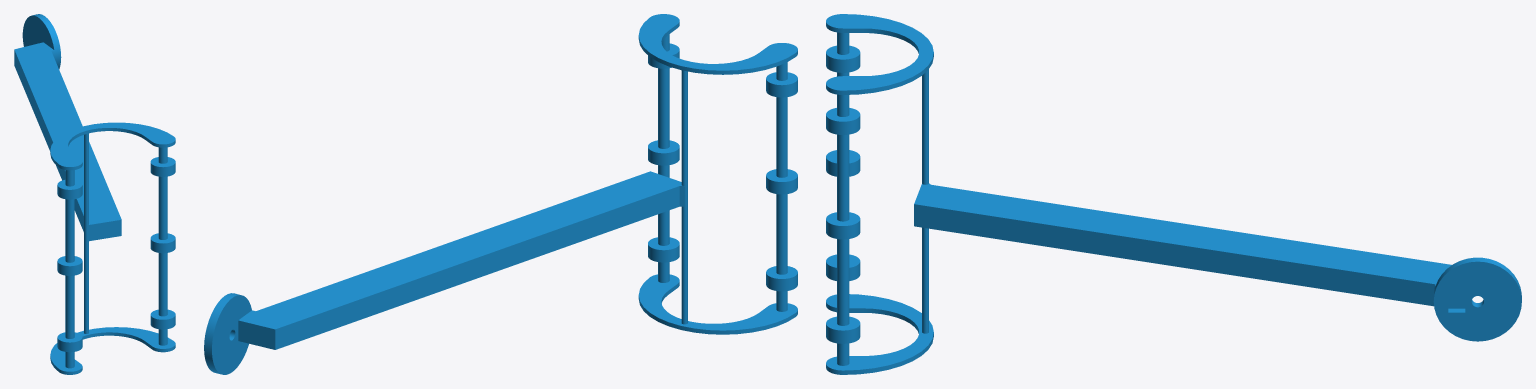
3 renders of one model, left to right at view 1: azimuth 30°, elevation 25°; view 2: azimuth 150°, elevation 25°; view 3: azimuth 270°, elevation 25°, orthographic. The views are drawn at different scales.
Visible parts, largest first — view 1: SOLID (×2); view 2: SOLID (×2); view 3: SOLID (×2).
Part boxes in pixels (left/top/right/bottom): SOLID (×2): left=14, top=14, right=175, bottom=374; SOLID (×2): left=204, top=14, right=797, bottom=374; SOLID (×2): left=826, top=14, right=1521, bottom=374.
Bounding box in the file's own units: 0.351 × 0.32 × 0.7098.
